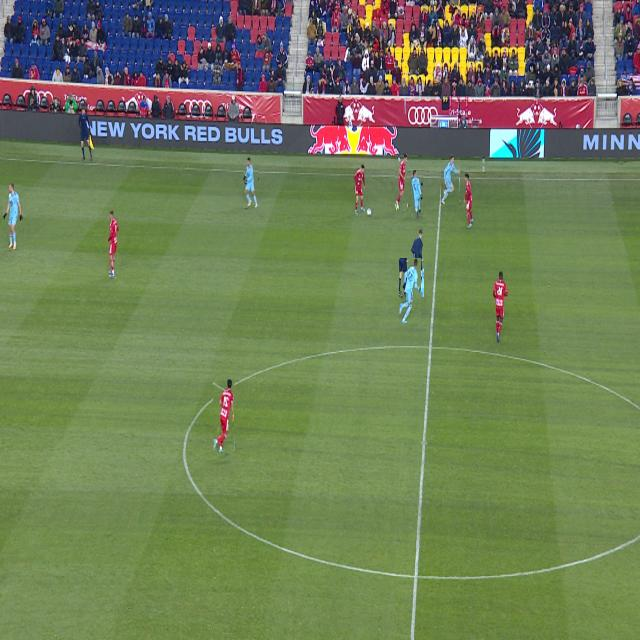football: (367, 208, 372, 216)
player: (214, 380, 234, 453), (399, 258, 421, 324), (4, 184, 22, 250), (493, 271, 508, 343), (442, 155, 460, 204), (107, 212, 119, 277), (244, 158, 258, 208), (396, 154, 407, 211), (354, 164, 365, 215), (464, 174, 474, 228), (412, 170, 423, 219)
referee: (411, 229, 424, 297), (414, 290, 415, 295)
